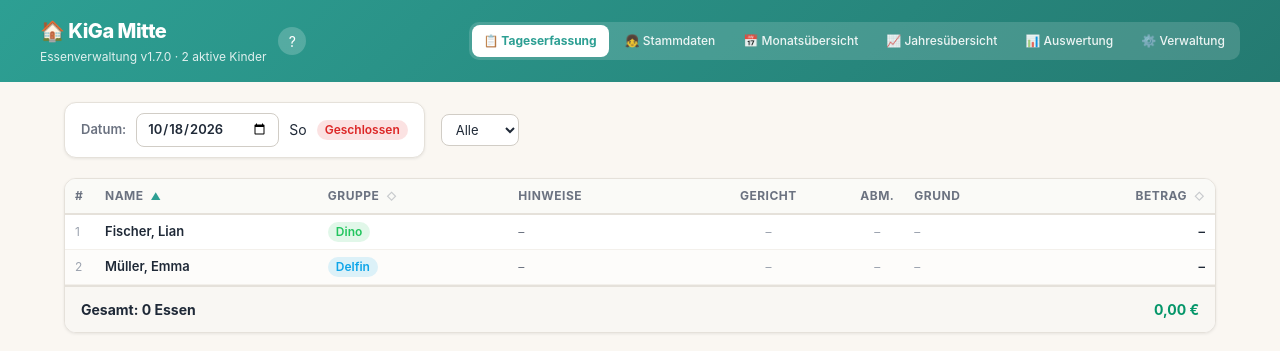
MonthlyReport › zeigt Spaltenüberschriften mit Sortier-Headers
The width and height of the screenshot is (1280, 351).
Expected: the text "Müller, Emma" is shown, [95,249,318,284]
What coordinates should you click on to do the following:
click the button "📅 Monatsübersicht"
I would click on:
 (801, 41)
Its box is [731,25,870,57].
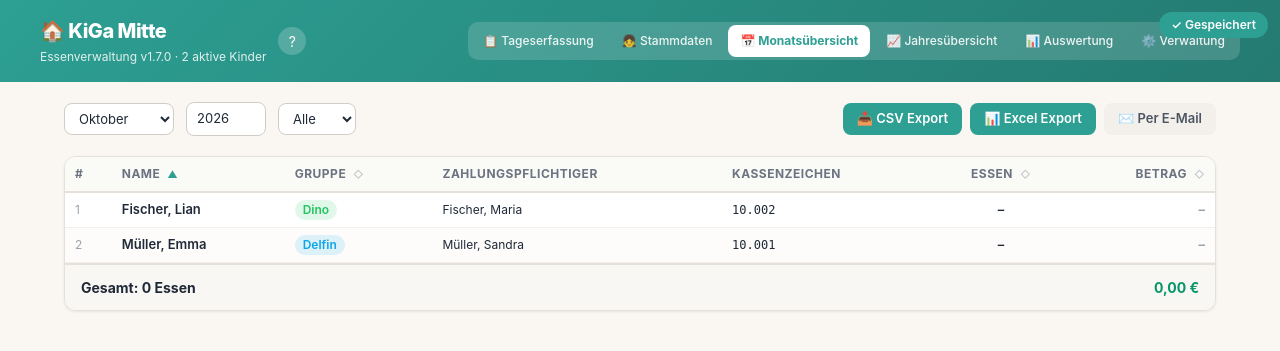
Now the button "📥 CSV Export" is shown, box [843,103,962,134]
Now the column heading "Zahlungspflichtiger" is shown, box [432,156,722,192]
Now the column heading "Kassenzeichen" is shown, box [722,156,935,192]
